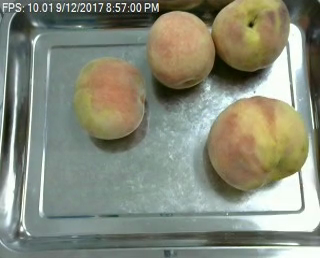Peach: (206, 95, 308, 188), (72, 56, 146, 140), (212, 0, 289, 72), (146, 9, 215, 89)
